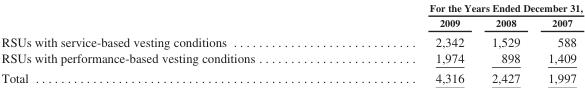table: (0, 1, 581, 85)
table column: (0, 1, 341, 85), (341, 1, 477, 85), (477, 1, 533, 85), (533, 1, 581, 85)
table column header: (0, 1, 581, 31)
table row: (0, 31, 581, 49), (0, 49, 581, 67), (0, 67, 581, 85), (0, 14, 581, 31), (0, 1, 581, 14)
table spanning cell: (341, 1, 581, 14)
